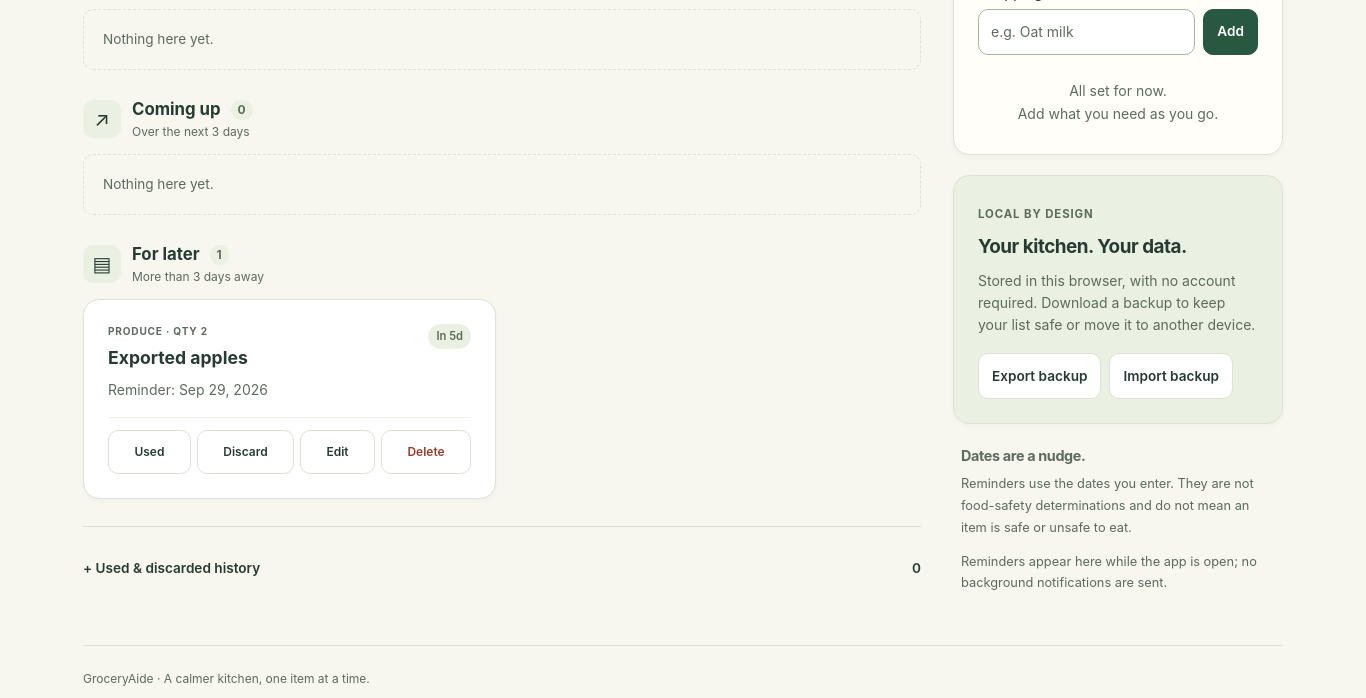
Test: kitchen workflow › downloads a valid backup without changing the saved inventory
This screenshot has width=1366, height=698.
(page scrolled)
Click the button "Export backup": coordinates (1040, 376) [978, 353, 1102, 399]
(page scrolled)
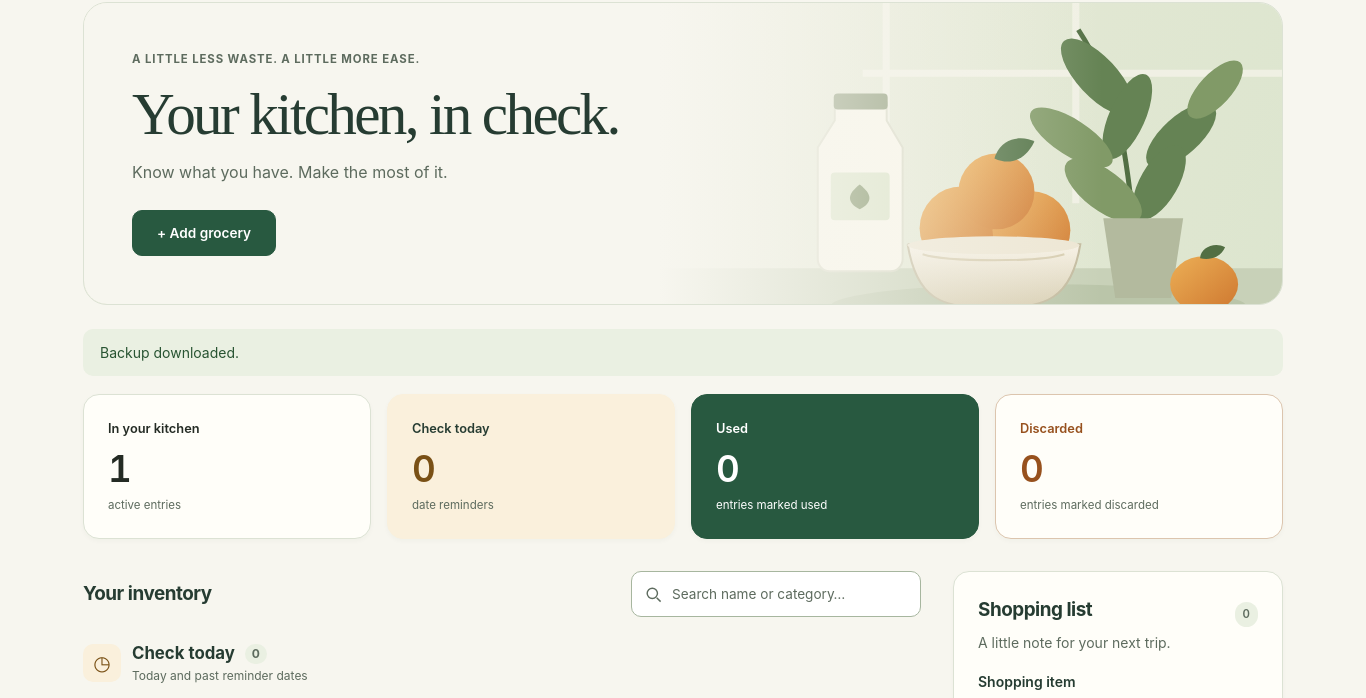
Expected: the message reads "Backup downloaded.", [100, 344, 239, 361]
